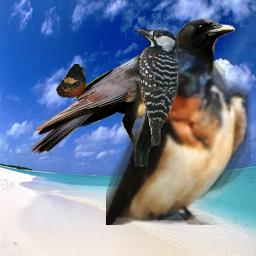Crow: (30, 16, 235, 155)
Swallow: (106, 49, 251, 225), (56, 64, 86, 98)
Woodpecker: (132, 25, 181, 167)
